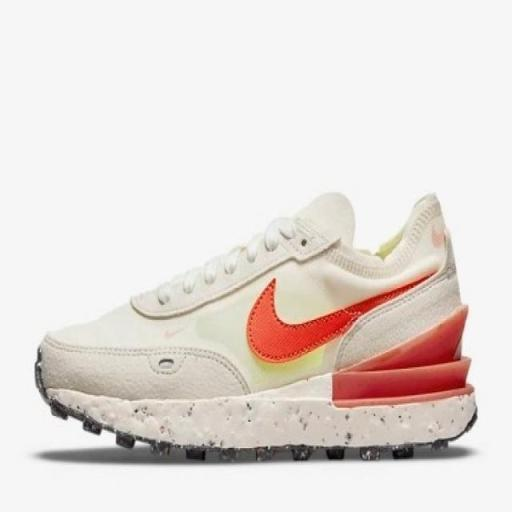Nike: (248, 272, 442, 366)
